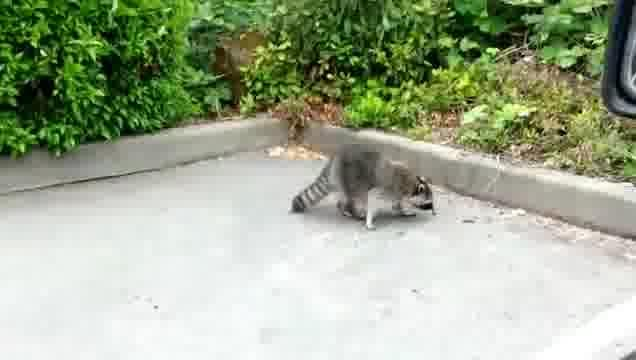raccoon: (291, 144, 440, 234)
